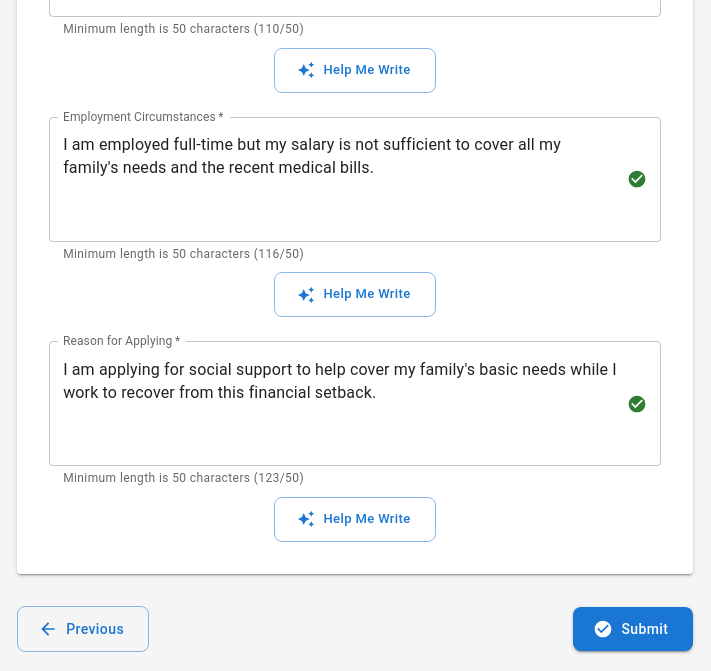
Scenario: Complete form flow (all steps) › Form submission and success flow › should show loading state during submission
(page scrolled)
Note: Submit the form
Click the button "Submit": (633, 629) [573,607,693,651]
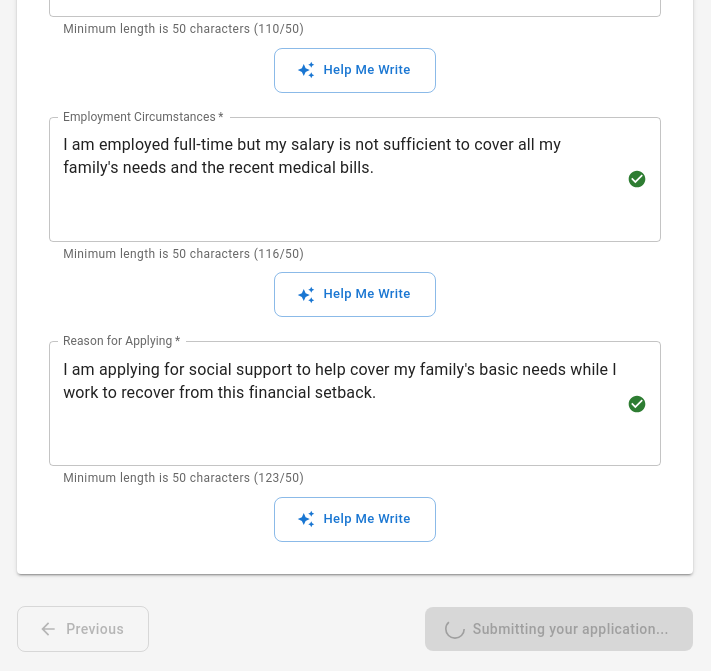
Expected: the button "Submitting your application..." is disabled, [425,607,693,651]
